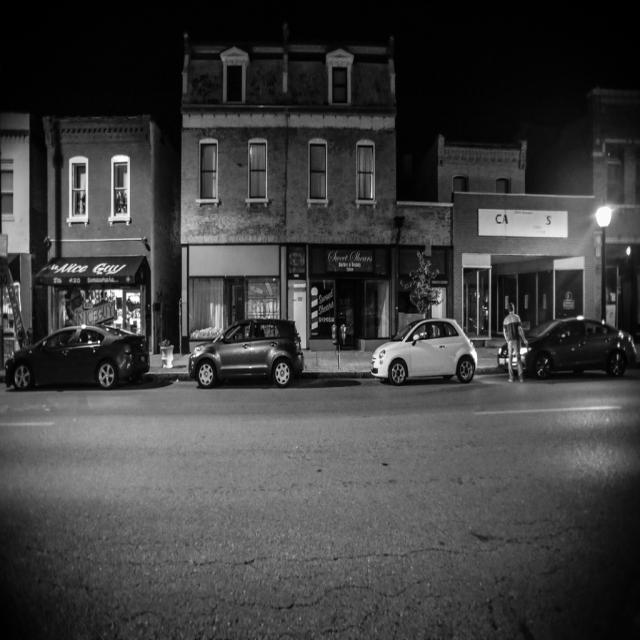car: (6, 308, 149, 384), (187, 317, 304, 384), (369, 313, 480, 383)
